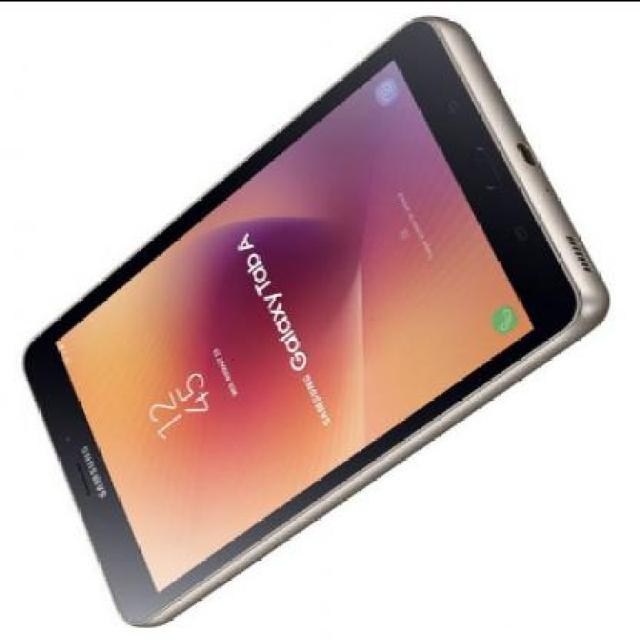smart phone: (17, 14, 619, 627)
